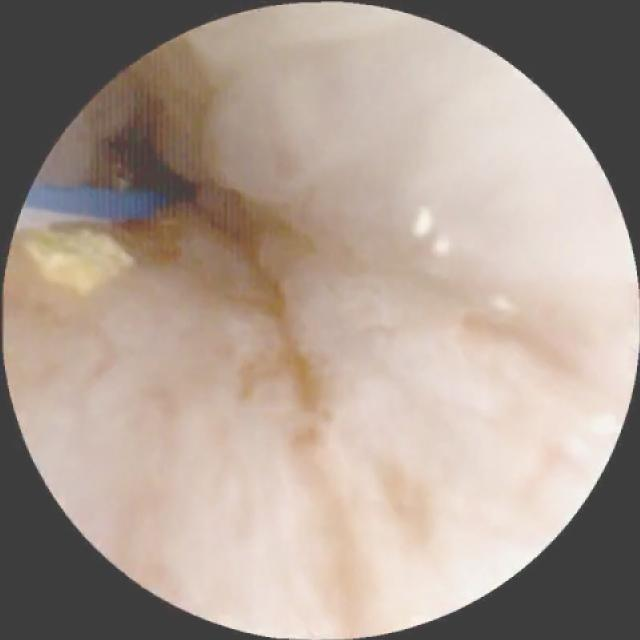stone: (28, 230, 127, 294)
tissue: (10, 12, 631, 622)
